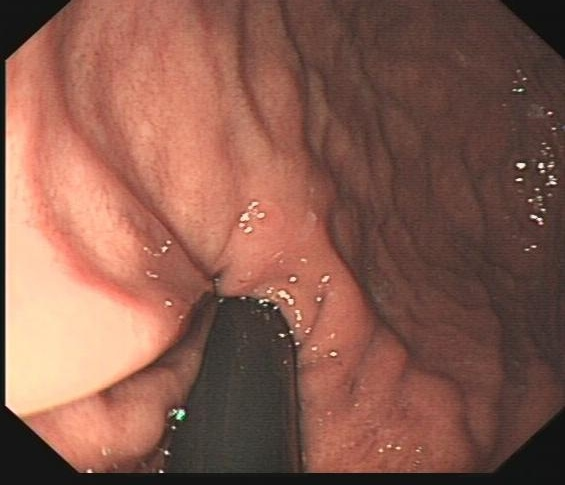Polyp: (236, 184, 293, 246)
